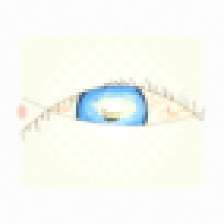corneal_ulcer: (83, 81, 149, 134)
